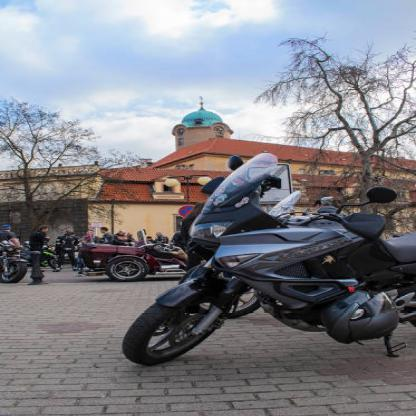Motorcycle: (105, 143, 415, 375)
